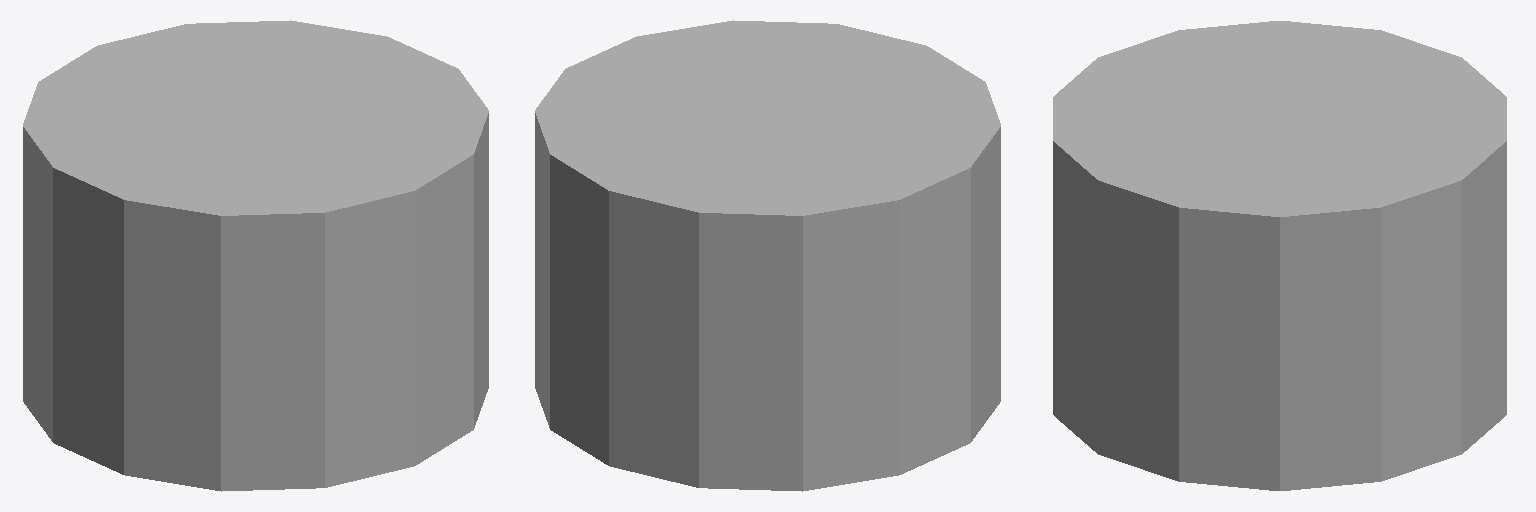
The robot description file, URDF, robot "root":
<?xml version='1.0' encoding='utf-8'?>
<robot name="root">
  <link name="link_001">
    <visual>
      <origin xyz="0 0 0" rpy="0 0 0" />
      <geometry>
        <mesh filename="5e763b84a75751fb44412cc68d5b3635612ed0a3f34569632ef4a2bba845efb2_scale_084.stl" scale="1.0000E+00 1.0000E+00 1.0000E+00" />
      </geometry>
      <material name="">
        <color rgba="7.50E-01 7.50E-01 7.50E-01 1" />
      </material>
    </visual>
    <collision>
      <origin xyz="0 0 0" rpy="0 0 0" />
      <geometry>
        <mesh filename="5e763b84a75751fb44412cc68d5b3635612ed0a3f34569632ef4a2bba845efb2_scale_084.stl" scale="1.0000E+00 1.0000E+00 1.0000E+00" />
      </geometry>
    </collision>
  </link>
</robot>

--- What the picture shows (computed from the rendered views, not written in the file) ---
3 views of the same robot in one strip: view 1: azimuth 30°, elevation 25°; view 2: azimuth 150°, elevation 25°; view 3: azimuth 270°, elevation 25° (orthographic).
Robot: root — 1 links, 0 joints (none); root link link_001; default pose: all joints at 0.
Visible links, largest first — view 1: link_001; view 2: link_001; view 3: link_001.
Link boxes in pixels (x1,y1,x2,y2): link_001: [23, 20, 488, 491]; link_001: [535, 20, 1000, 491]; link_001: [1053, 21, 1506, 490].
Size in the robot's own frame: 0.11 by 0.1072 by 0.0714 metres.
Meshes: 1 distinct files referenced, 1 mesh visuals loaded (1 binary STL).
